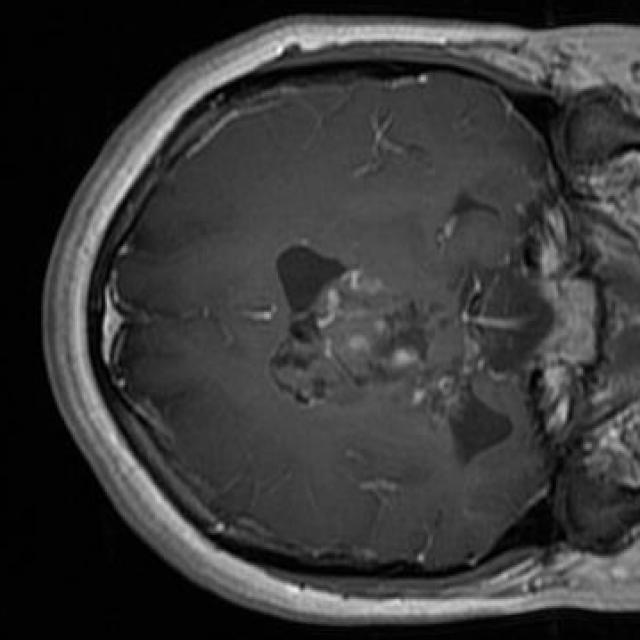glioma: (269, 244, 513, 465)
